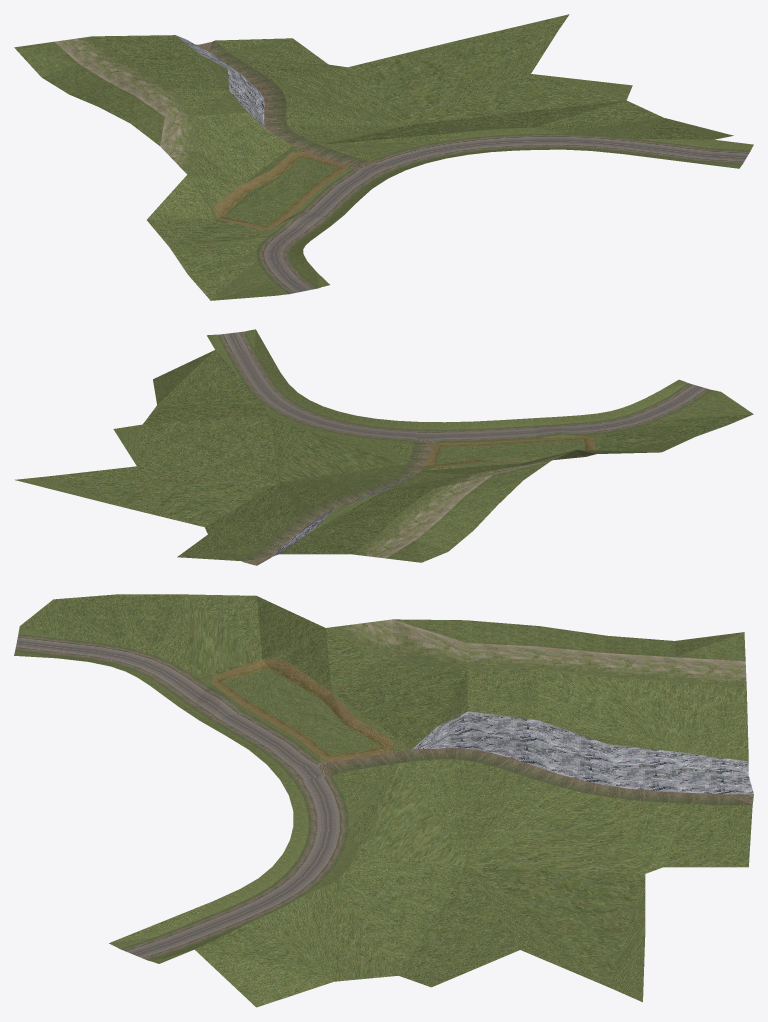
File: lod_ne_bit_14.obj
3 renders of one model, top to bottom at view 1: azimuth 30°, elevation 25°; view 2: azimuth 150°, elevation 25°; view 3: azimuth 270°, elevation 25°, orthographic. The views are drawn at different scales.
Parts seen in each view (by area): view 1: lod_ne_bit_14; view 2: lod_ne_bit_14; view 3: lod_ne_bit_14.
Boxes of the visible parts, box(x1,y1,x2,y2) form: lod_ne_bit_14: box(14, 14, 753, 300); lod_ne_bit_14: box(15, 329, 753, 565); lod_ne_bit_14: box(14, 594, 753, 1007).
Size of the model in its own units: 253 by 29.33 by 224.
9 materials, 9 textured.
